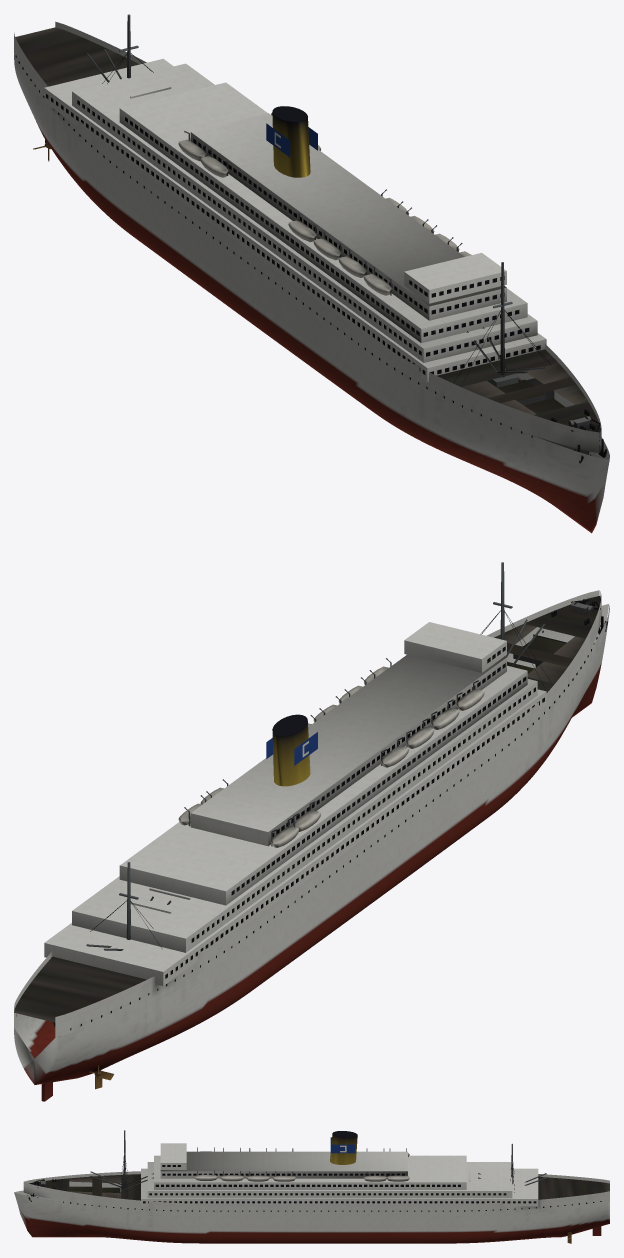
File: model_built.glb
The picture shows the model from 3 angles, top to bottom: view 1: azimuth 30°, elevation 25°; view 2: azimuth 150°, elevation 25°; view 3: azimuth 270°, elevation 25°; orthographic projection. The views are drawn at different scales.
Parts seen in each view (by area): view 1: main; view 2: main; view 3: main.
Part boxes in pixels (<box>): main: <box>14,14,609,533</box>; main: <box>14,562,609,1101</box>; main: <box>14,1130,609,1243</box>.
Size of the model in its own units: 23.92 by 36.15 by 183.
1 material, 1 textured.
